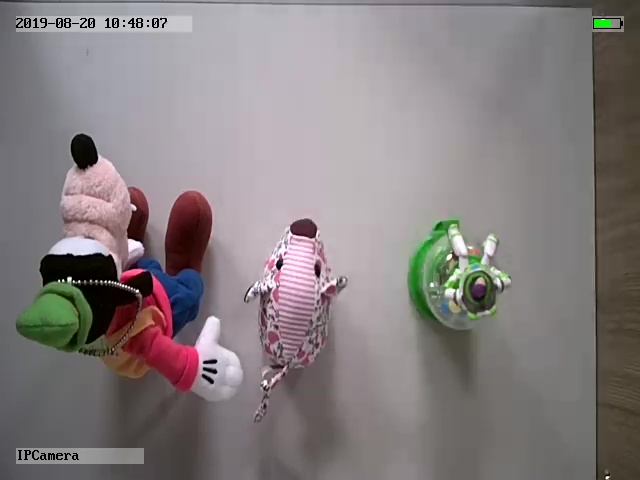buzz: (402, 218, 514, 336)
goofy: (16, 131, 244, 401)
pig: (243, 213, 349, 423)
